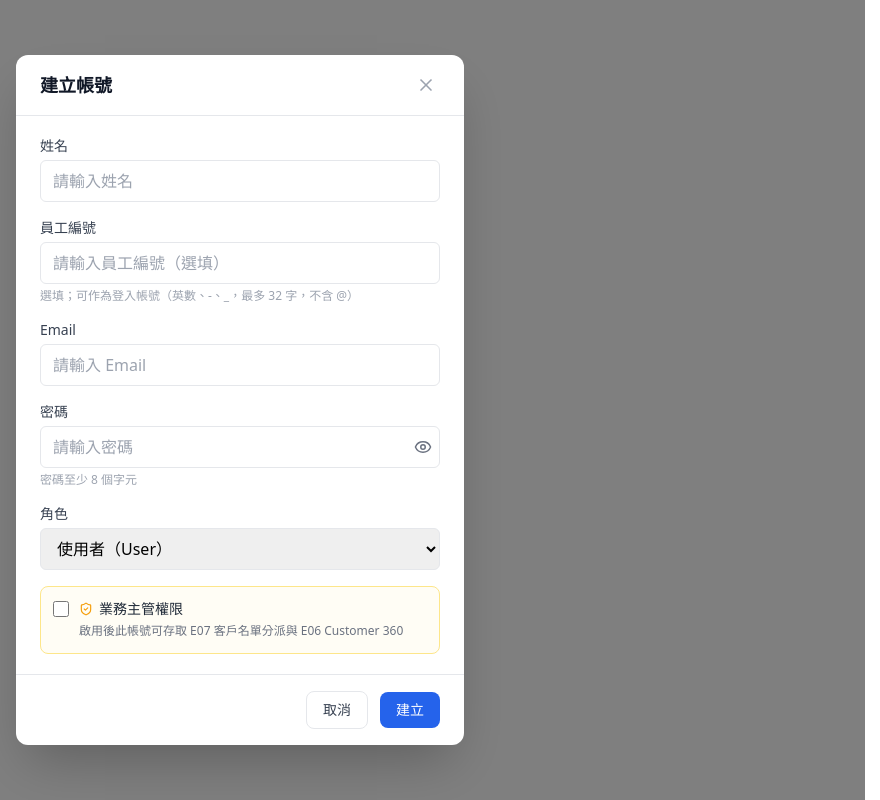
Test: CreateAccountModal › 前端欄位驗證 › 姓名空白提交顯示錯誤
The image size is (880, 800).
Click the button "建立" at (410,710), box left=380, top=692, right=440, bottom=728
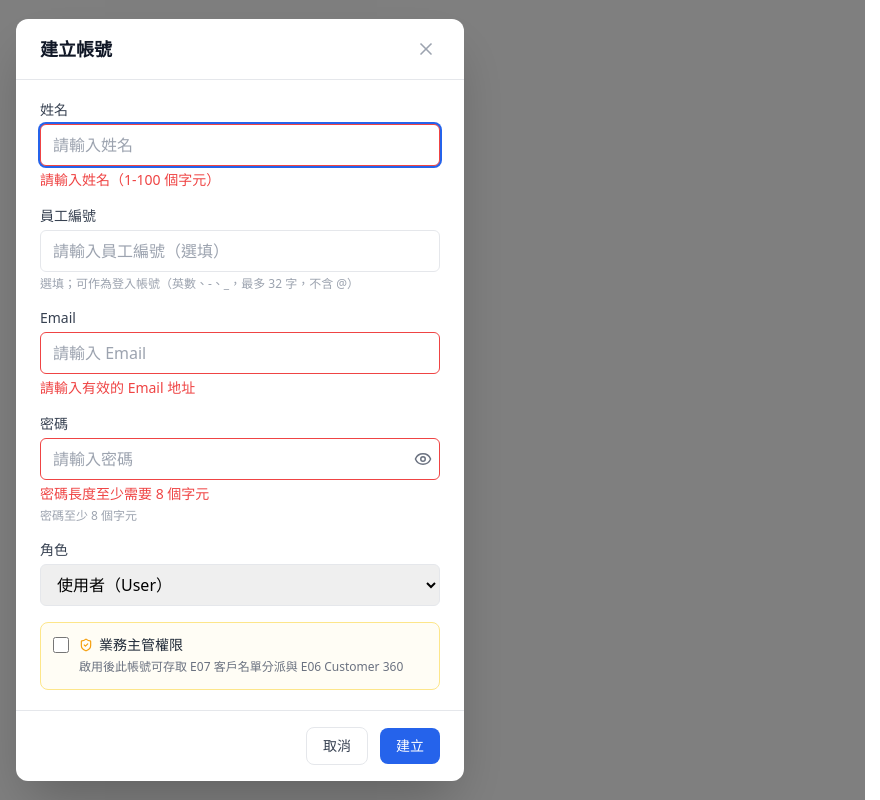
Expected: the text "請輸入姓名（1-100 個字元）" is shown, left=40, top=170, right=220, bottom=189
